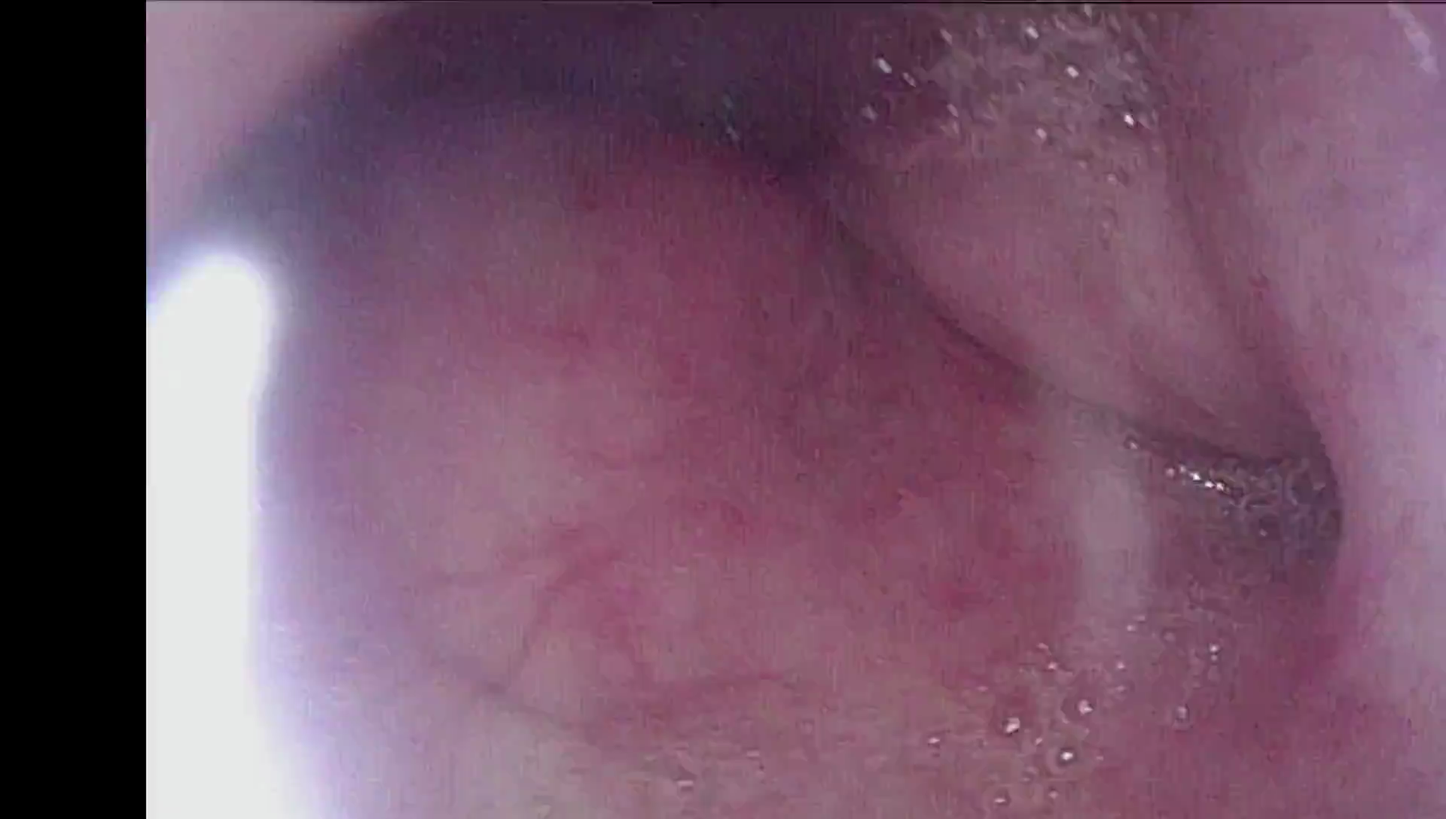next: (477, 13, 855, 191)
